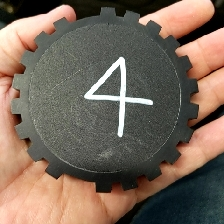gear: (9, 6, 201, 194)
missing: (44, 159, 112, 193), (53, 6, 116, 32)
